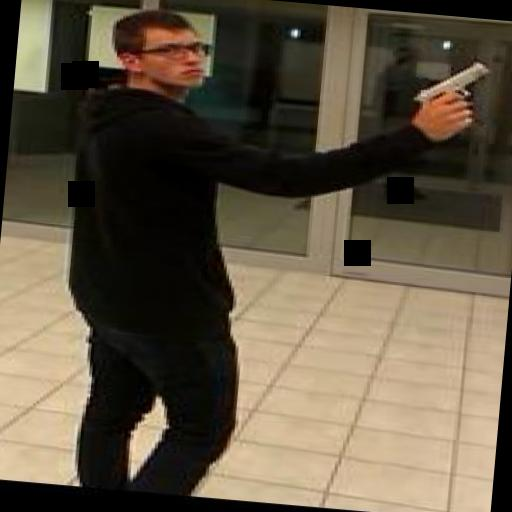Handgun: (403, 54, 486, 124)
